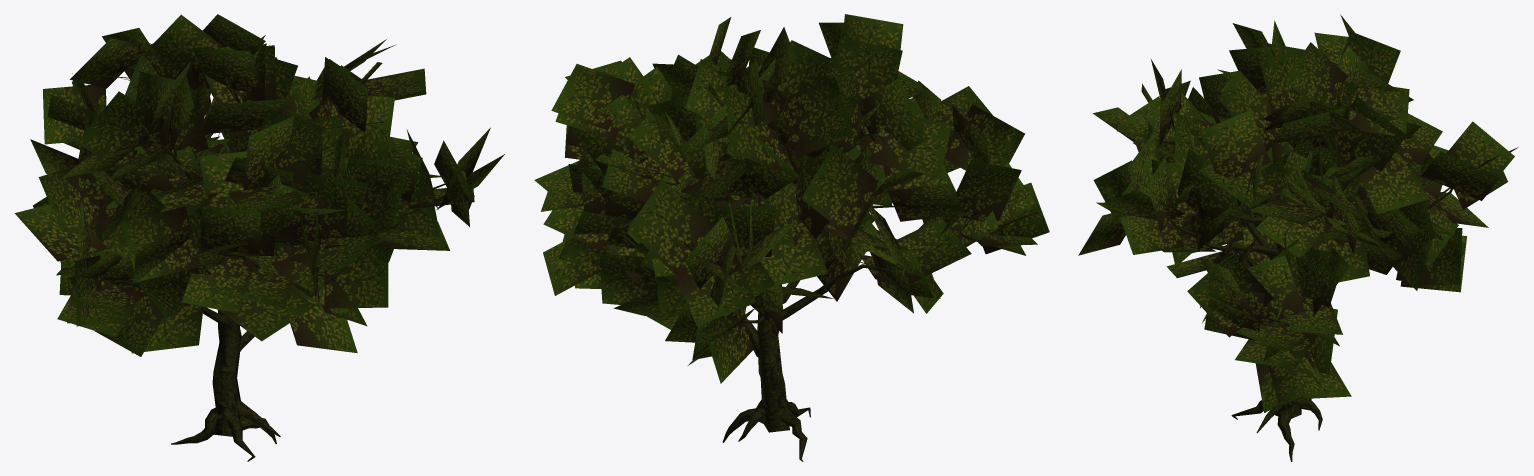
Rendered from DeadTree_2.fbx.
The picture shows the model from 3 angles, left to right: view 1: azimuth 30°, elevation 25°; view 2: azimuth 150°, elevation 25°; view 3: azimuth 270°, elevation 25°; orthographic projection. The views are drawn at different scales.
Parts seen in each view (by area): view 1: DeadTree_2; view 2: DeadTree_2; view 3: DeadTree_2.
Part boxes in pixels (box(x1,y1,x2,y2)): DeadTree_2: box(14, 14, 504, 461); DeadTree_2: box(534, 14, 1049, 461); DeadTree_2: box(1078, 14, 1518, 461).
Size of the model in its own units: 1570 by 1425 by 1432.
